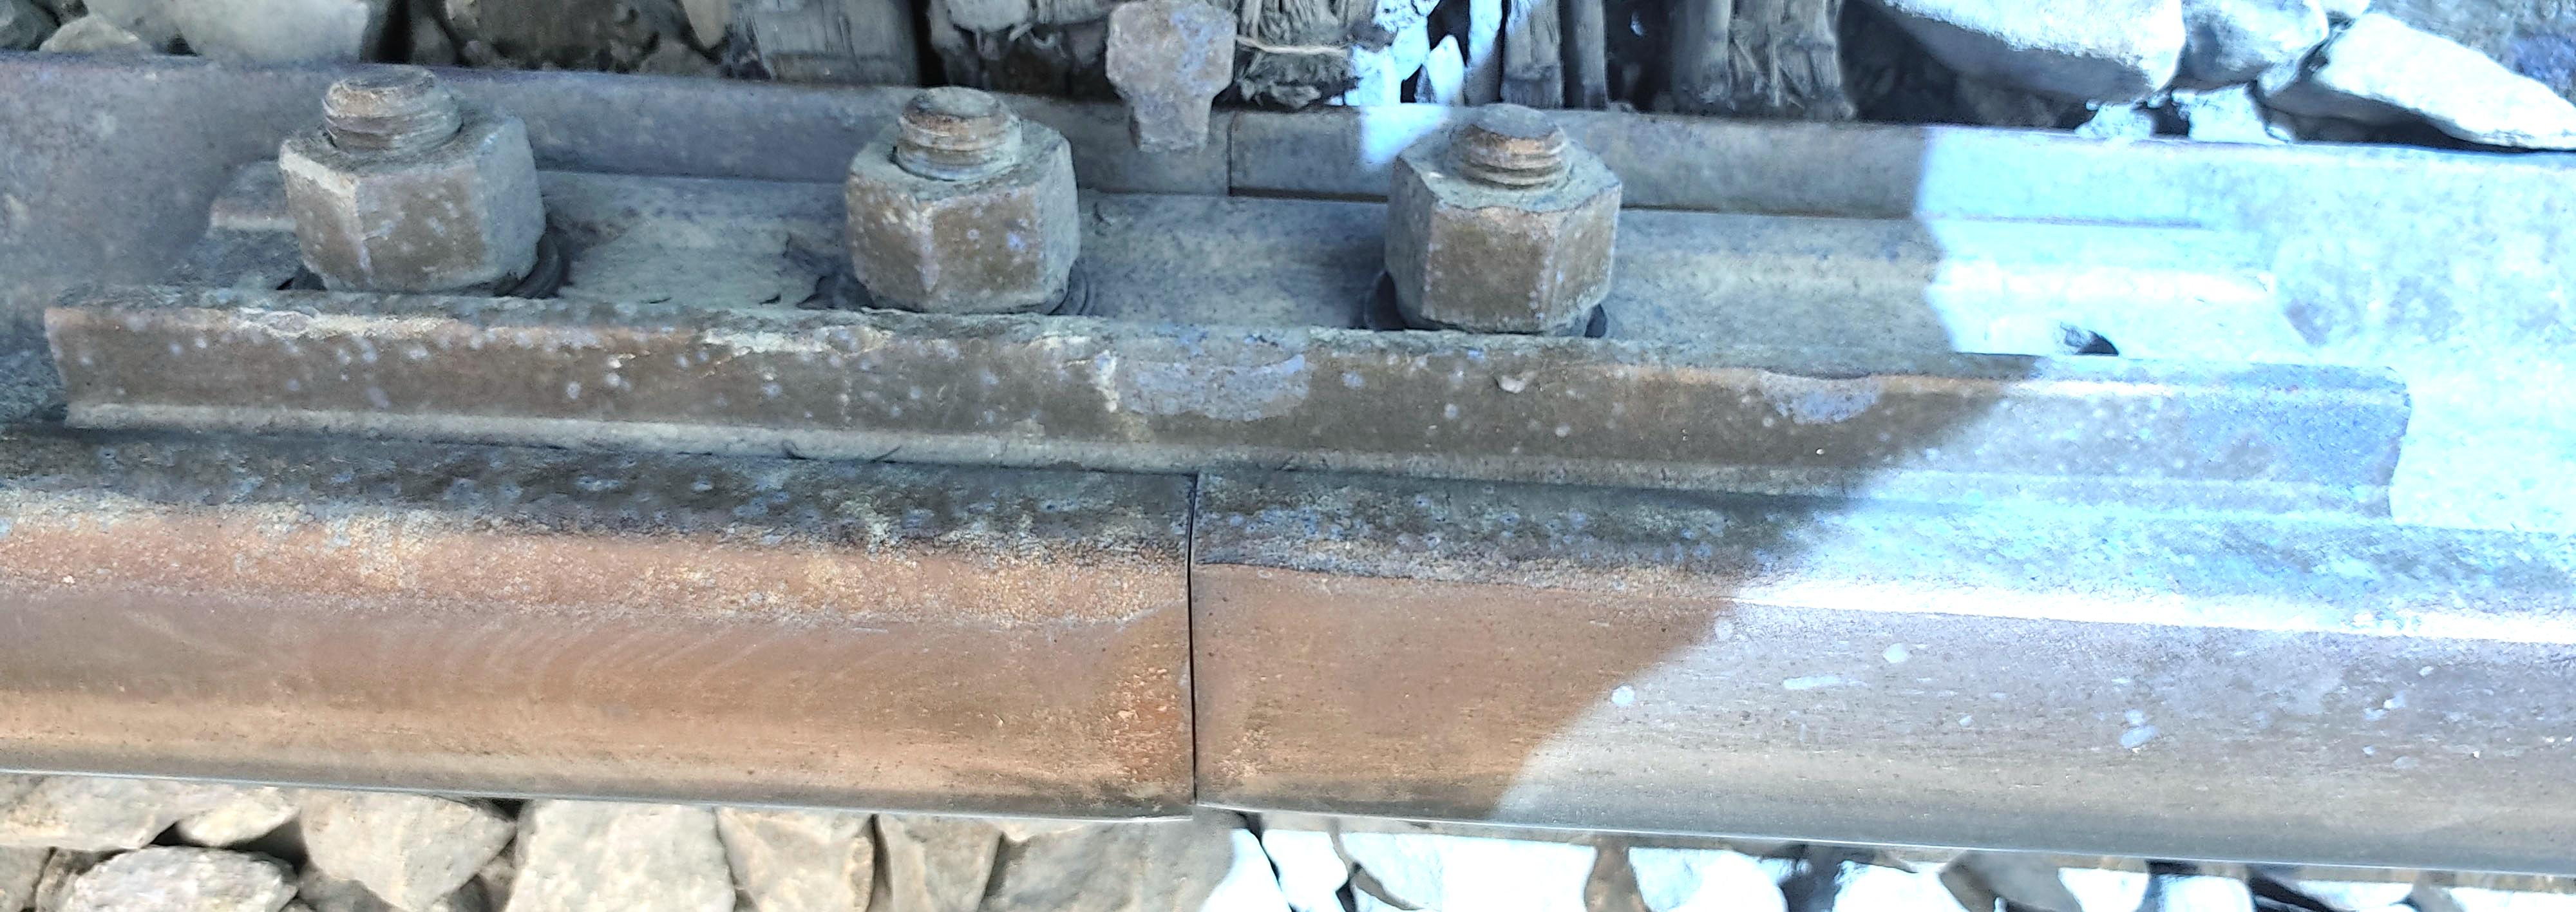error2: (1098, 408, 1325, 832)
